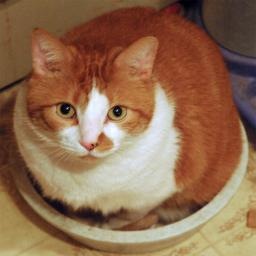catnose: (77, 138, 103, 152)
